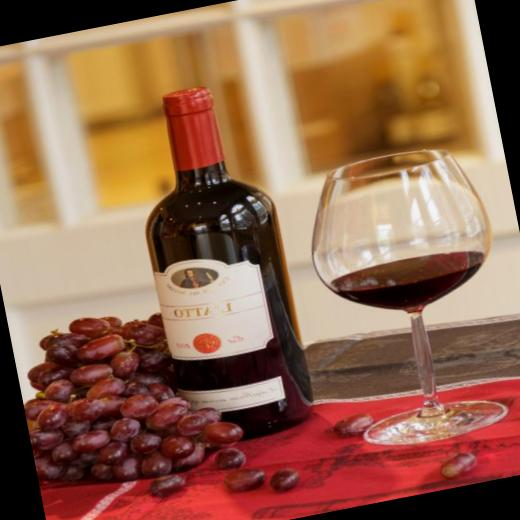Orange: (9, 290, 250, 498), (433, 450, 482, 481), (220, 466, 264, 493), (332, 412, 374, 438), (264, 464, 300, 492), (147, 472, 186, 497), (215, 446, 246, 469)
